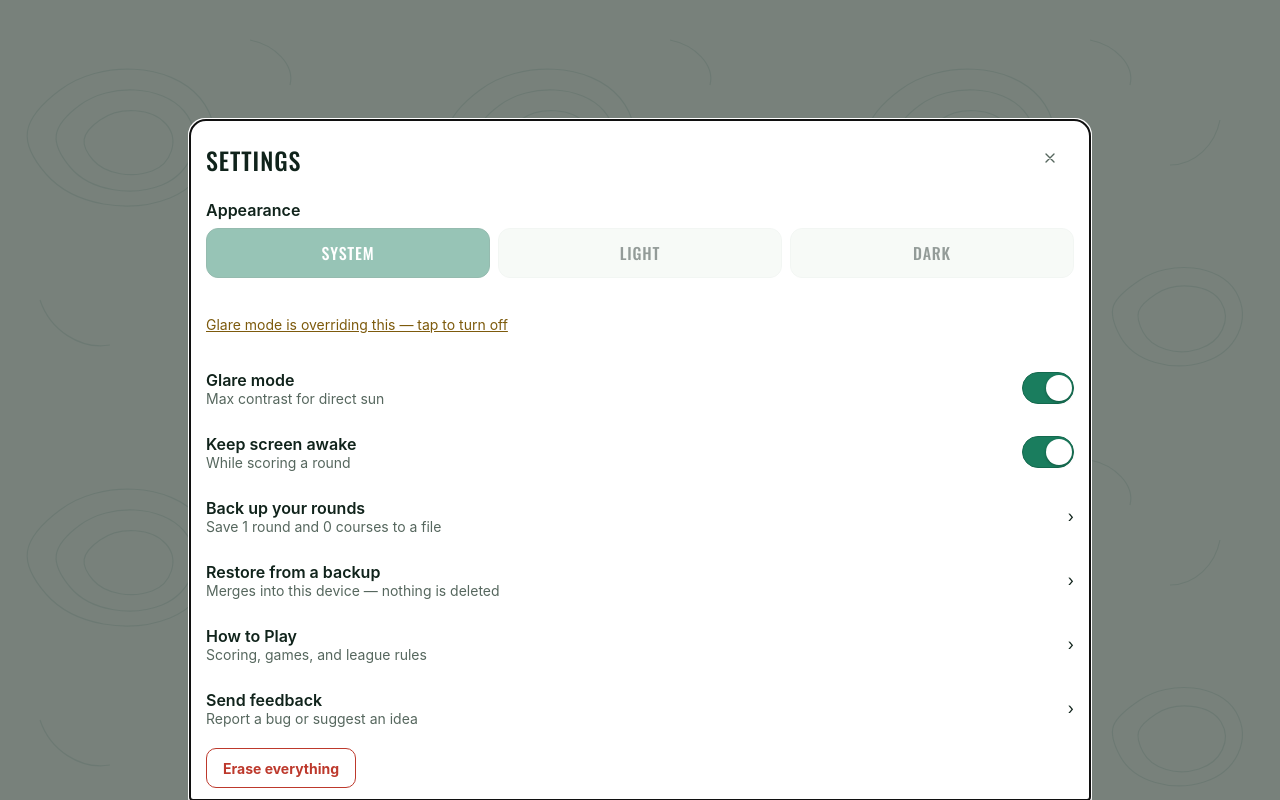
Test case: Erase everything › stands down on Cancel
The image size is (1280, 800).
Click the button "Erase everything" at (281, 768), box [206, 748, 356, 788]
(page scrolled)
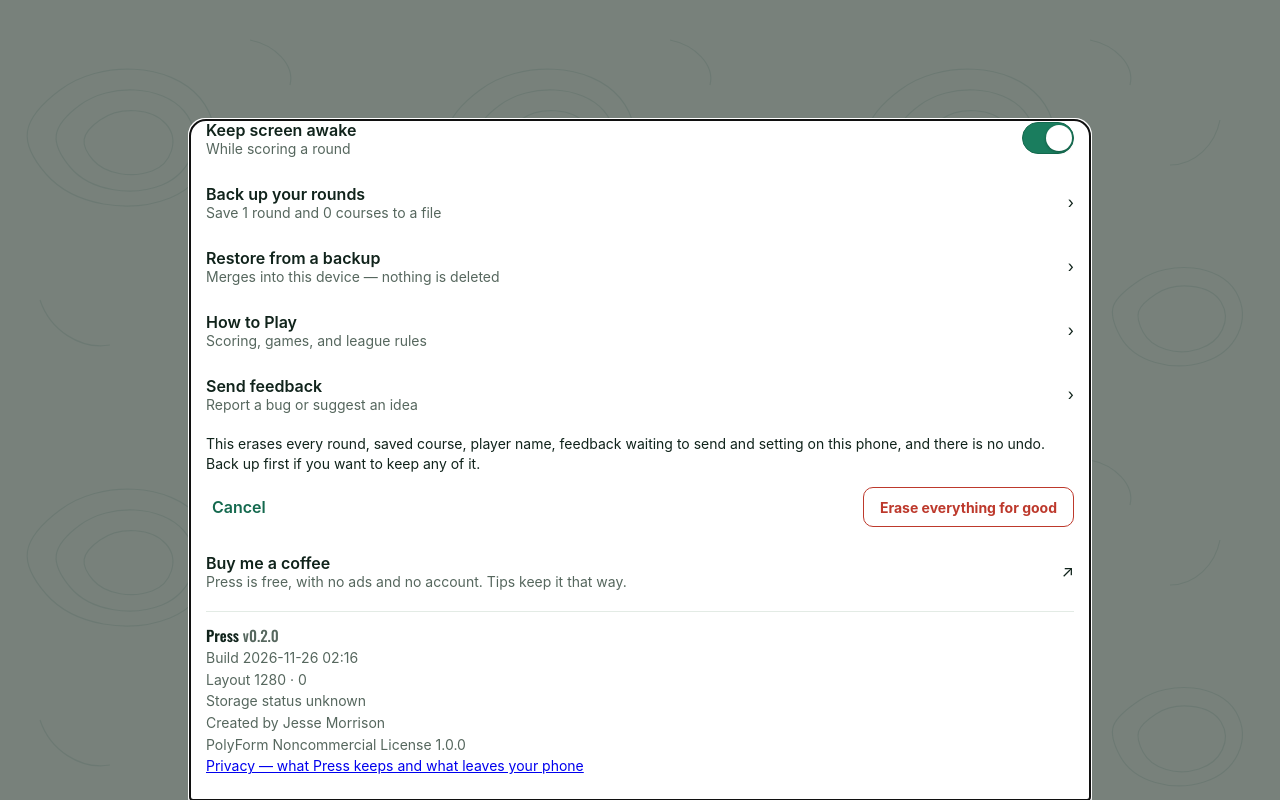
Click the button "Cancel" at (239, 507), box [206, 483, 272, 531]
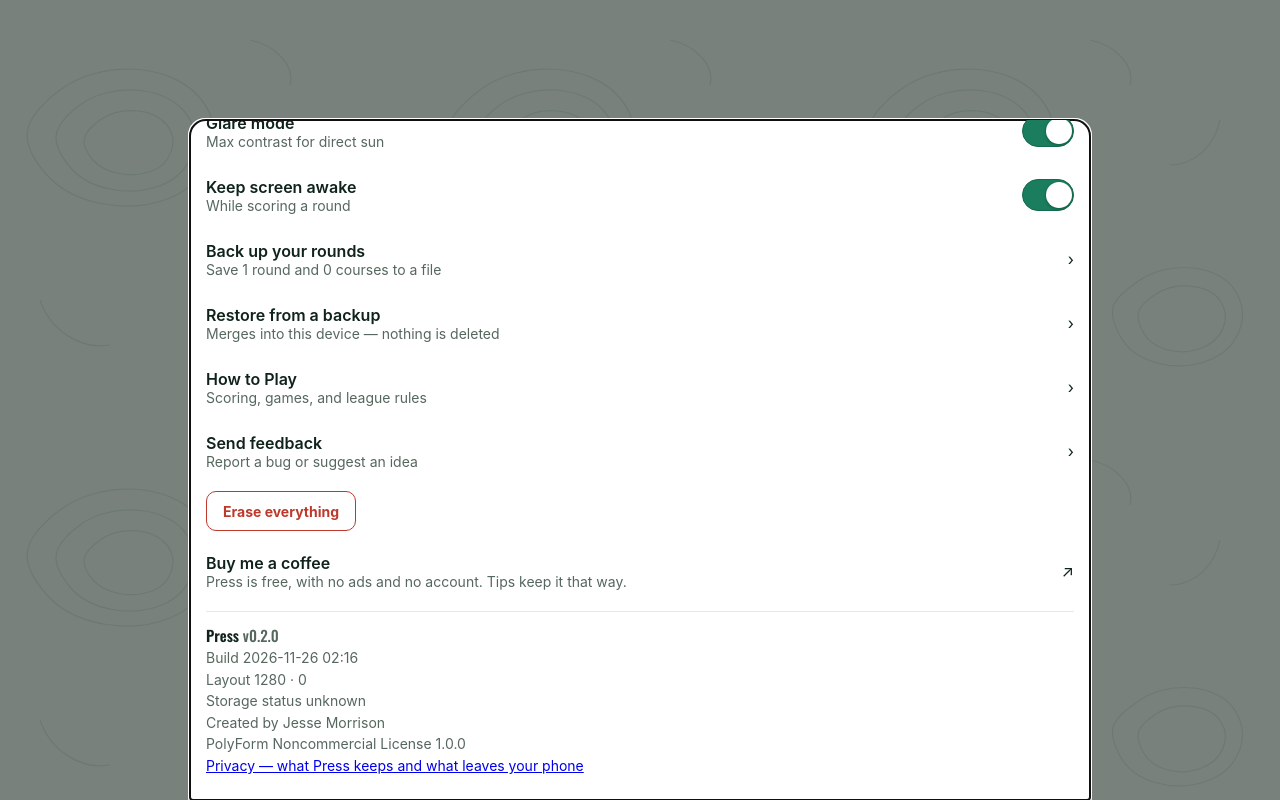
Expected: the button "Erase everything" is shown, [206, 491, 356, 531]
Expected: the button "Erase everything for good" is gone
